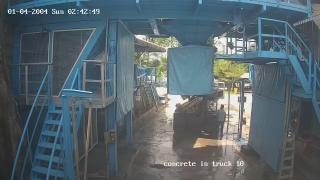cement_mixer_truck: (174, 75, 224, 138)
